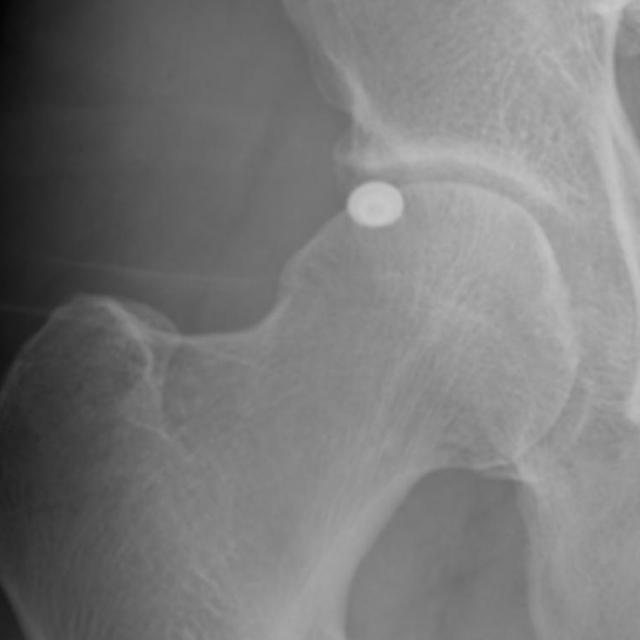Fitted_femural_head: (302, 180, 432, 302)
